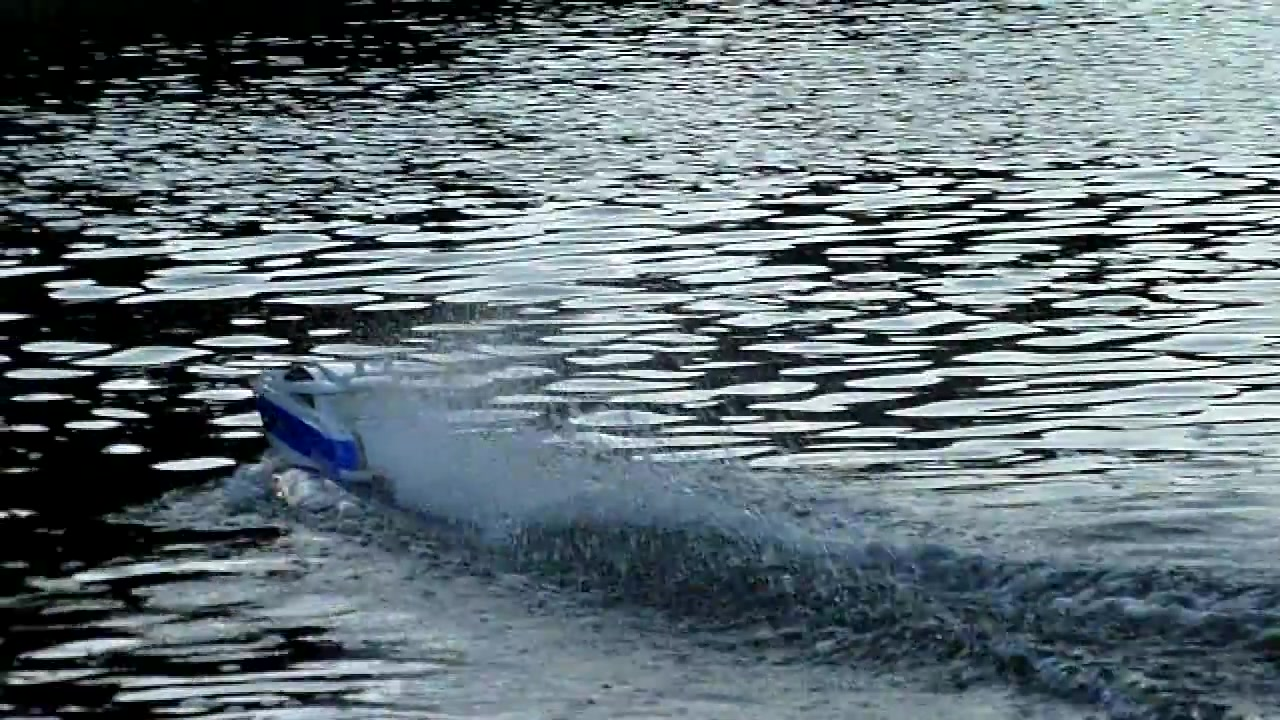boat: (250, 353, 404, 489)
